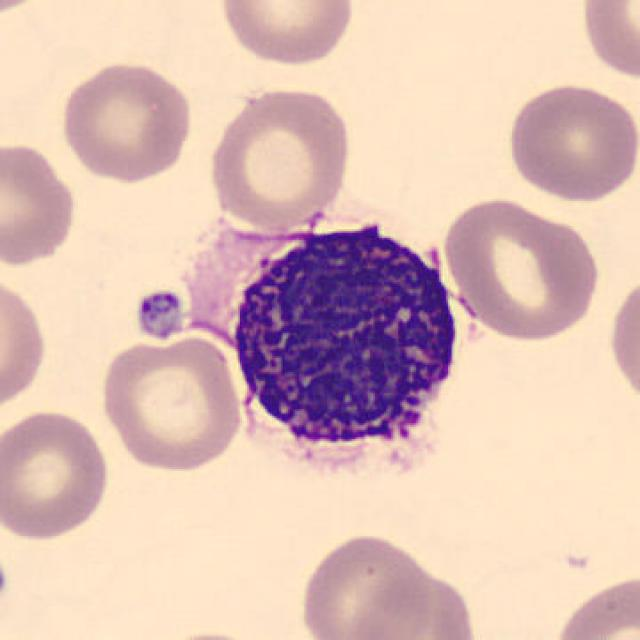Basophil: (222, 201, 478, 499)
Platelets: (132, 286, 188, 342)
RBC: (439, 192, 603, 346), (204, 81, 356, 233), (96, 332, 245, 474), (55, 57, 197, 185), (503, 80, 638, 204), (0, 405, 114, 545), (295, 529, 437, 640), (345, 562, 485, 640), (0, 138, 82, 268), (215, 0, 357, 69), (0, 270, 50, 420), (548, 569, 638, 640), (576, 0, 640, 85), (604, 266, 640, 414), (140, 626, 284, 640), (0, 0, 53, 17)
